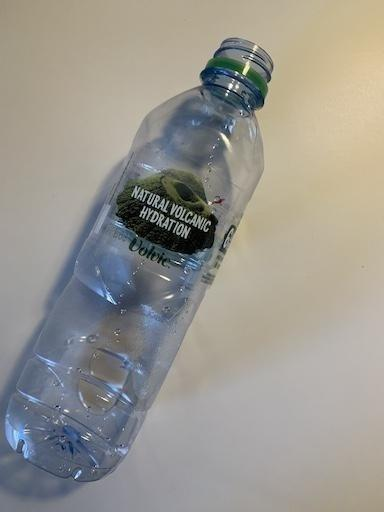bottle-plastic: (2, 34, 274, 483)
